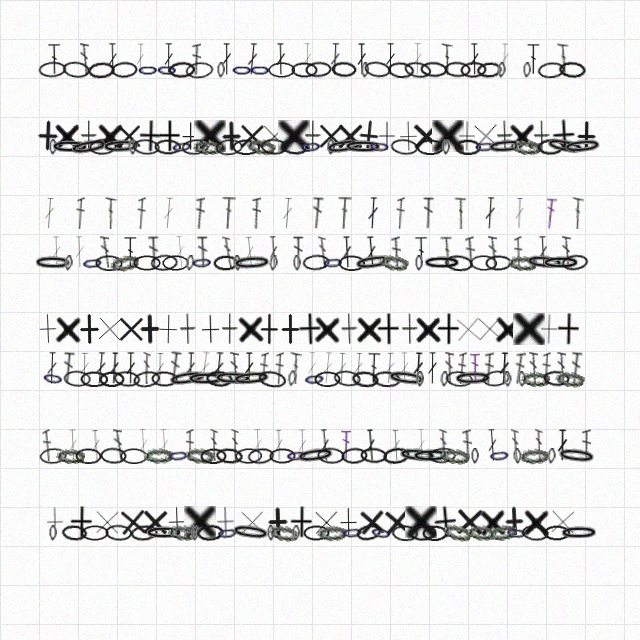chain: (544, 135, 586, 158), (68, 136, 110, 158), (324, 136, 365, 157), (353, 252, 394, 273), (167, 368, 208, 389), (386, 368, 427, 389), (295, 445, 336, 466), (230, 522, 271, 543), (556, 446, 597, 466), (486, 137, 527, 156), (562, 137, 603, 156), (524, 253, 565, 272), (231, 369, 272, 388), (397, 446, 438, 465), (232, 254, 272, 272), (109, 252, 140, 274), (101, 138, 141, 155), (213, 370, 253, 387), (453, 370, 493, 387), (442, 522, 473, 543), (487, 522, 518, 543), (50, 139, 90, 155), (343, 139, 383, 155), (33, 255, 73, 271), (422, 255, 462, 271), (541, 255, 581, 271), (186, 371, 226, 387), (411, 448, 451, 464), (144, 525, 184, 541), (559, 525, 599, 541), (268, 523, 299, 543), (257, 369, 287, 389), (355, 522, 383, 543), (403, 60, 432, 80), (132, 369, 161, 389), (246, 137, 276, 156), (379, 253, 409, 272), (363, 60, 392, 79), (555, 370, 585, 388), (440, 447, 470, 465), (519, 447, 549, 465), (317, 524, 347, 542), (62, 60, 90, 79), (561, 253, 589, 272), (333, 369, 361, 388), (482, 369, 510, 388), (382, 446, 410, 465), (185, 61, 214, 79), (181, 138, 210, 156), (390, 138, 419, 156), (444, 254, 473, 272), (372, 370, 401, 388), (87, 61, 115, 79), (387, 61, 415, 79), (537, 61, 565, 79), (132, 138, 160, 156), (215, 138, 243, 156), (280, 138, 308, 156), (113, 370, 141, 388), (351, 370, 379, 388), (445, 370, 473, 388), (39, 447, 67, 465), (215, 447, 243, 465), (247, 447, 275, 465), (130, 524, 158, 542), (391, 524, 419, 542), (521, 524, 549, 542), (38, 61, 67, 78), (144, 447, 173, 464), (185, 447, 214, 464), (428, 447, 457, 464), (168, 524, 197, 541), (467, 524, 496, 541), (476, 61, 503, 79), (61, 524, 88, 542), (369, 523, 393, 543), (558, 61, 586, 78), (89, 138, 117, 155), (260, 138, 288, 155), (150, 254, 178, 271), (302, 254, 330, 271), (63, 370, 91, 387), (205, 370, 233, 387), (317, 447, 345, 464), (196, 524, 224, 541), (193, 139, 222, 155), (512, 139, 541, 155), (508, 255, 537, 271), (521, 371, 550, 387), (56, 448, 85, 464), (111, 61, 138, 78), (168, 61, 195, 78), (305, 61, 332, 78), (420, 61, 447, 78), (444, 61, 471, 78), (460, 61, 487, 78), (537, 138, 564, 155), (543, 370, 570, 387), (100, 447, 127, 464), (341, 447, 368, 464), (360, 447, 387, 464), (105, 524, 132, 541), (409, 524, 436, 541), (170, 137, 194, 156), (41, 369, 65, 388), (232, 139, 260, 155), (416, 139, 444, 155), (95, 255, 123, 271), (133, 255, 161, 271), (80, 371, 108, 387), (120, 448, 148, 464), (81, 525, 109, 541), (331, 61, 357, 78), (268, 62, 295, 78), (291, 62, 318, 78), (154, 139, 181, 155), (454, 139, 481, 155), (162, 255, 189, 271), (338, 255, 365, 271), (470, 255, 497, 271), (485, 255, 512, 271), (151, 371, 178, 387), (314, 371, 341, 387), (75, 448, 102, 464), (200, 448, 227, 464), (235, 448, 262, 464), (269, 448, 296, 464), (303, 525, 330, 541), (543, 525, 570, 541), (213, 255, 239, 271), (99, 371, 125, 387), (422, 525, 448, 541), (81, 254, 104, 272), (303, 370, 326, 388), (216, 524, 239, 542), (505, 524, 528, 542), (368, 138, 391, 155), (167, 447, 190, 464), (285, 447, 308, 464), (488, 447, 511, 464), (341, 524, 364, 541), (300, 138, 322, 155), (474, 138, 496, 155), (191, 254, 213, 271), (322, 254, 344, 271), (137, 62, 159, 78), (156, 62, 178, 78), (231, 62, 253, 78), (249, 62, 271, 78), (287, 370, 297, 387), (185, 255, 195, 271), (497, 62, 506, 78), (128, 139, 137, 155), (64, 255, 73, 271), (233, 255, 242, 271), (269, 255, 278, 271), (440, 371, 449, 387), (503, 371, 512, 387), (513, 448, 522, 464), (547, 448, 556, 464), (217, 62, 225, 78), (361, 62, 369, 78), (523, 62, 531, 78), (49, 139, 57, 155), (327, 139, 335, 155), (442, 139, 450, 155), (293, 255, 301, 271), (415, 255, 423, 271), (416, 371, 424, 387), (518, 371, 526, 387), (471, 448, 479, 464), (49, 525, 57, 541), (191, 525, 199, 541), (267, 525, 275, 541), (292, 525, 300, 541)
double: (197, 351, 212, 384), (221, 197, 236, 229), (337, 197, 352, 229), (168, 351, 182, 384), (243, 236, 257, 268), (367, 352, 381, 384), (569, 352, 583, 384), (48, 43, 61, 75), (246, 43, 259, 75), (527, 43, 540, 75), (557, 43, 570, 75), (43, 197, 56, 229), (104, 197, 117, 229), (162, 197, 175, 229), (281, 197, 294, 229), (311, 197, 324, 229), (544, 197, 557, 229), (571, 197, 584, 229), (124, 236, 137, 268), (365, 236, 378, 268), (415, 236, 428, 268), (440, 236, 453, 268), (62, 352, 75, 384), (94, 352, 107, 384), (212, 352, 225, 384), (289, 352, 302, 384), (321, 352, 334, 384), (383, 352, 396, 384), (513, 352, 526, 384), (137, 429, 150, 461), (158, 429, 171, 461), (486, 429, 499, 461), (329, 43, 341, 75), (441, 43, 453, 75), (367, 197, 379, 229), (454, 197, 466, 229), (484, 197, 496, 229), (148, 236, 160, 268), (174, 236, 186, 268), (197, 236, 209, 268), (222, 236, 234, 268), (341, 236, 353, 268), (537, 236, 549, 268), (46, 352, 58, 384), (336, 352, 348, 384), (352, 352, 364, 384), (412, 352, 424, 384), (498, 352, 510, 384), (67, 429, 79, 461), (90, 429, 102, 461), (252, 429, 264, 461), (319, 429, 331, 461), (365, 429, 377, 461), (390, 429, 402, 461), (107, 43, 118, 75), (163, 43, 174, 75), (221, 43, 232, 75), (275, 43, 286, 75), (356, 43, 367, 75), (385, 43, 396, 75), (412, 43, 423, 75), (469, 43, 480, 75), (499, 43, 510, 75), (423, 197, 434, 229), (514, 197, 525, 229), (51, 236, 62, 268), (74, 236, 85, 268), (100, 236, 111, 268), (268, 236, 279, 268), (293, 236, 304, 268), (391, 236, 402, 268), (465, 236, 476, 268), (79, 352, 90, 384), (109, 352, 120, 384), (125, 352, 136, 384), (185, 352, 196, 384), (399, 352, 410, 384), (427, 352, 438, 384), (42, 429, 53, 461), (113, 429, 124, 461), (297, 429, 308, 461), (462, 429, 473, 461), (557, 429, 568, 461), (135, 43, 145, 75), (302, 43, 312, 75), (195, 197, 205, 229), (318, 236, 328, 268), (488, 236, 498, 268), (155, 352, 165, 384), (244, 352, 254, 384), (259, 352, 269, 384), (307, 352, 317, 384), (444, 352, 454, 384), (457, 352, 467, 384), (470, 352, 480, 384), (484, 352, 494, 384), (274, 429, 284, 461), (341, 429, 351, 461), (416, 429, 426, 461), (80, 43, 89, 75), (192, 43, 201, 75), (76, 197, 85, 229), (137, 197, 146, 229), (252, 197, 261, 229), (396, 197, 405, 229), (514, 236, 523, 268), (562, 236, 571, 268), (142, 352, 151, 384), (230, 352, 239, 384), (275, 352, 284, 384), (529, 352, 538, 384), (542, 352, 551, 384), (557, 352, 566, 384), (439, 429, 448, 461), (511, 429, 520, 461), (582, 429, 591, 461), (186, 429, 194, 461), (210, 429, 218, 461), (231, 429, 239, 461), (535, 429, 543, 461)
single: (351, 118, 386, 153), (451, 312, 485, 346), (116, 505, 150, 539), (355, 505, 389, 539), (380, 505, 414, 539), (31, 119, 64, 152), (469, 119, 502, 152), (31, 312, 64, 345), (93, 312, 126, 345), (473, 312, 506, 345), (160, 505, 193, 538), (209, 505, 242, 538), (453, 505, 486, 538), (498, 505, 531, 538), (546, 505, 579, 538), (113, 120, 145, 152), (174, 120, 206, 152), (194, 120, 226, 152), (215, 120, 247, 152), (236, 120, 268, 152), (258, 120, 290, 152), (278, 120, 310, 152), (315, 120, 347, 152), (334, 120, 366, 152), (371, 120, 403, 152), (392, 120, 424, 152), (410, 120, 442, 152), (432, 120, 464, 152), (451, 120, 483, 152), (570, 120, 602, 152), (73, 313, 105, 345), (115, 313, 147, 345), (134, 313, 166, 345), (152, 313, 184, 345), (194, 313, 226, 345), (253, 313, 285, 345), (274, 313, 306, 345), (513, 313, 545, 345), (533, 313, 565, 345), (39, 506, 71, 538), (91, 506, 123, 538), (139, 506, 171, 538), (184, 506, 216, 538), (236, 506, 268, 538), (262, 506, 294, 538), (310, 506, 342, 538), (332, 506, 364, 538), (405, 506, 437, 538), (236, 312, 266, 345), (478, 506, 508, 538), (53, 120, 82, 152), (96, 120, 125, 152), (508, 120, 537, 152), (54, 313, 83, 345), (313, 313, 342, 345), (355, 313, 384, 345), (414, 313, 443, 345), (494, 313, 523, 345), (522, 506, 551, 538), (432, 505, 458, 539), (551, 119, 576, 152), (297, 313, 322, 345), (138, 120, 162, 152), (157, 120, 181, 152), (376, 313, 400, 345), (436, 313, 460, 345), (556, 313, 580, 345), (69, 506, 93, 538), (289, 506, 313, 538), (341, 313, 358, 345), (81, 120, 97, 152), (305, 120, 321, 152), (497, 120, 513, 152), (534, 120, 550, 152), (180, 313, 196, 345), (222, 313, 238, 345), (402, 313, 418, 345)
